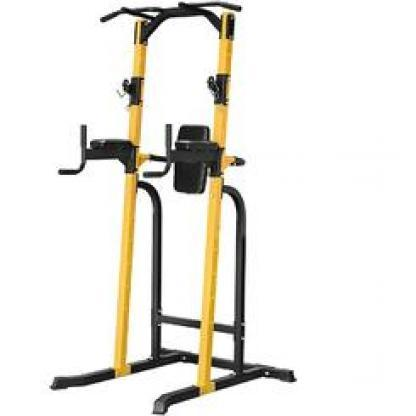chinning dipping: (49, 1, 295, 413)
